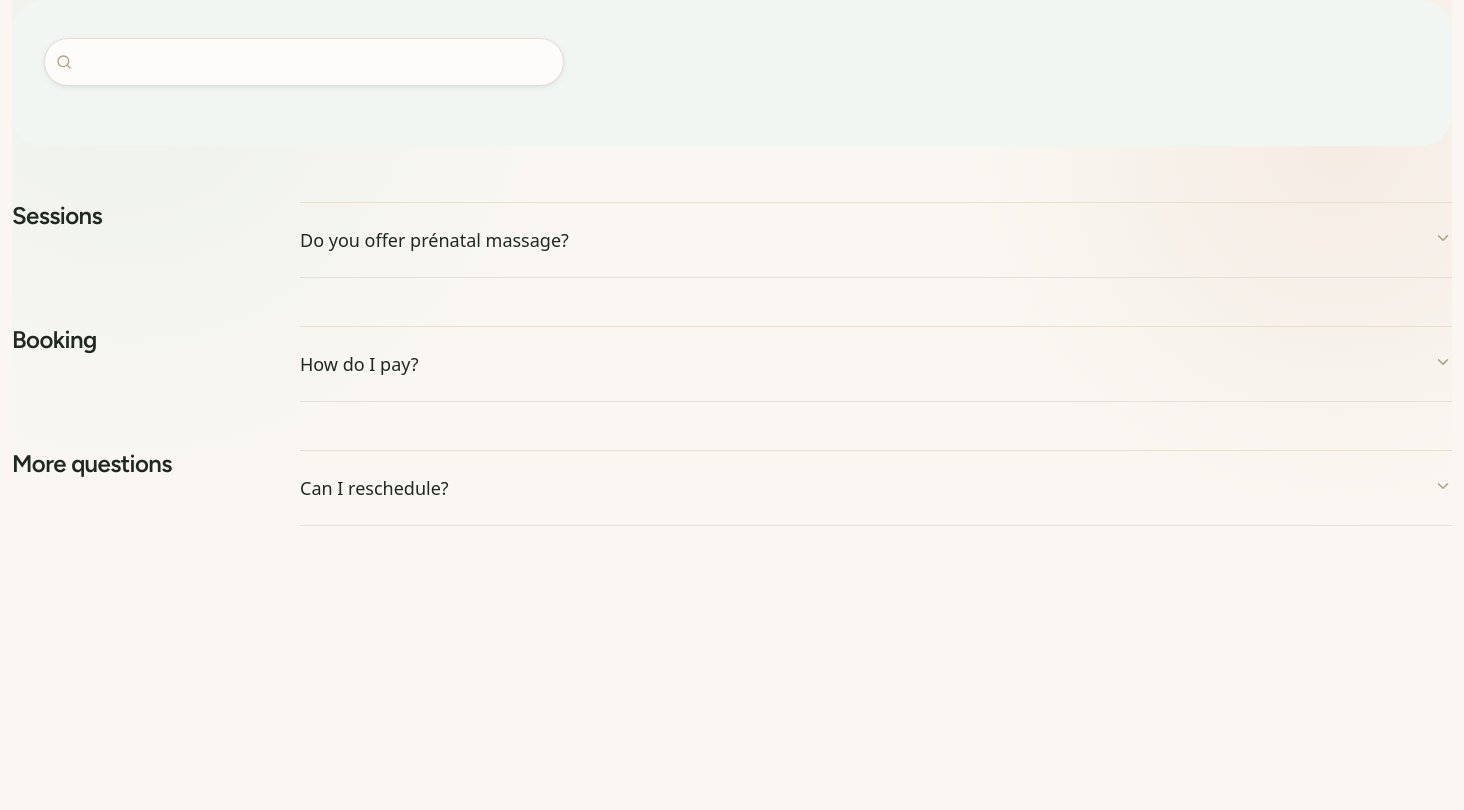
Scenario: FAQSearch › closes an open answer when its question is clicked again
Click the button "How do I pay?" at x=359, y=364, box [300,327,1452,401]
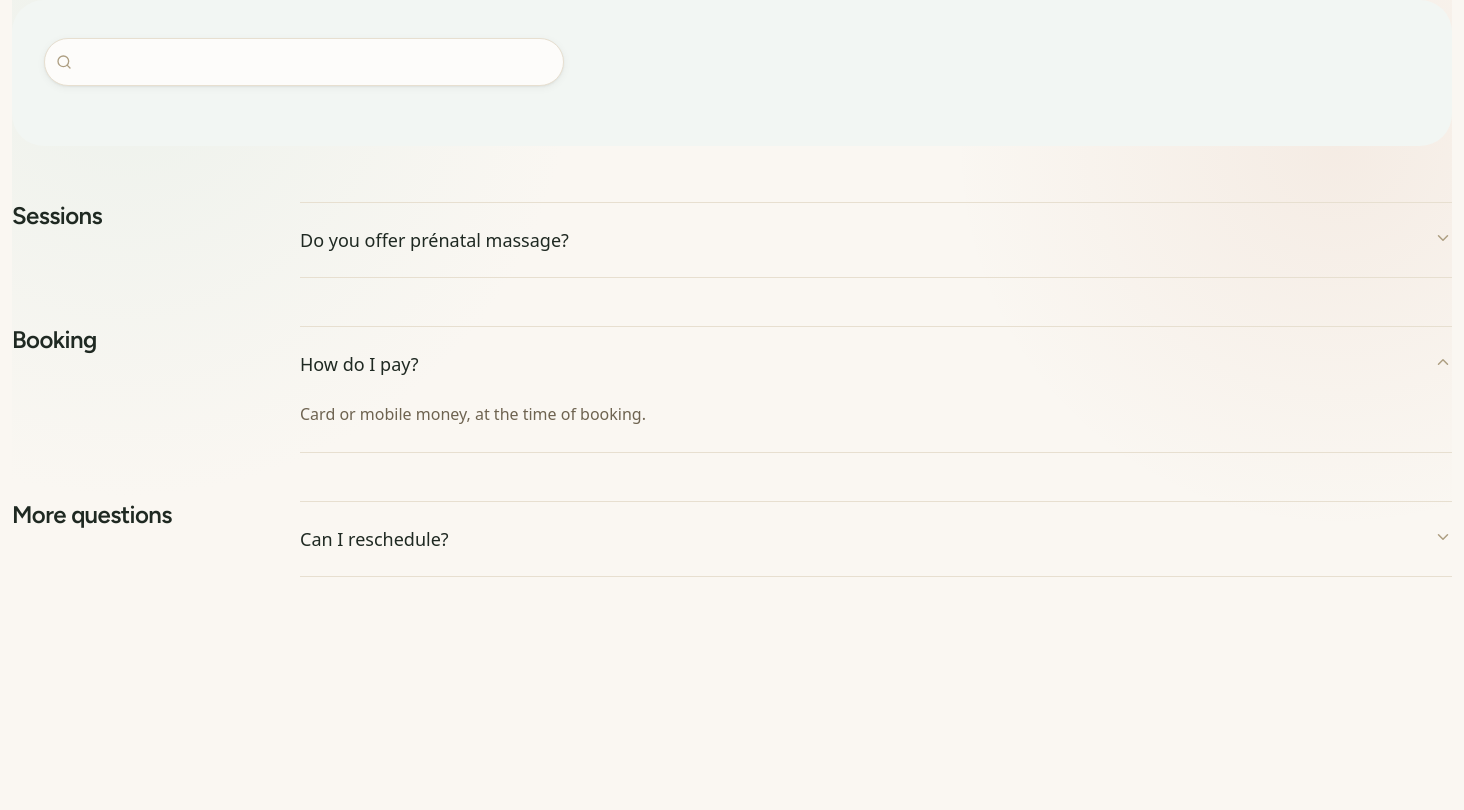
Click the button "How do I pay?" at x=359, y=364, box [300,327,1452,401]
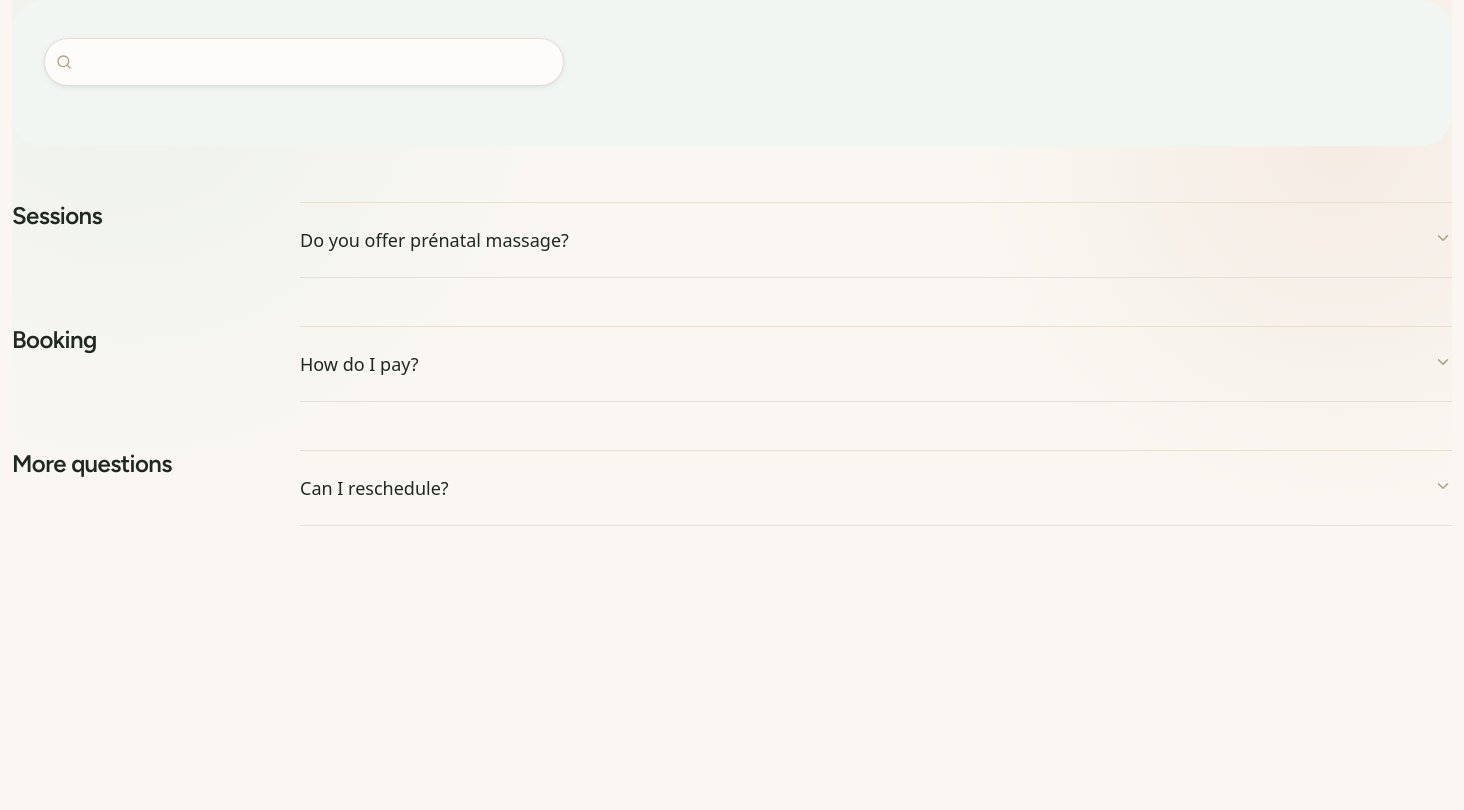
Expected: the button "How do I pay?" is collapsed, [300,327,1452,401]
